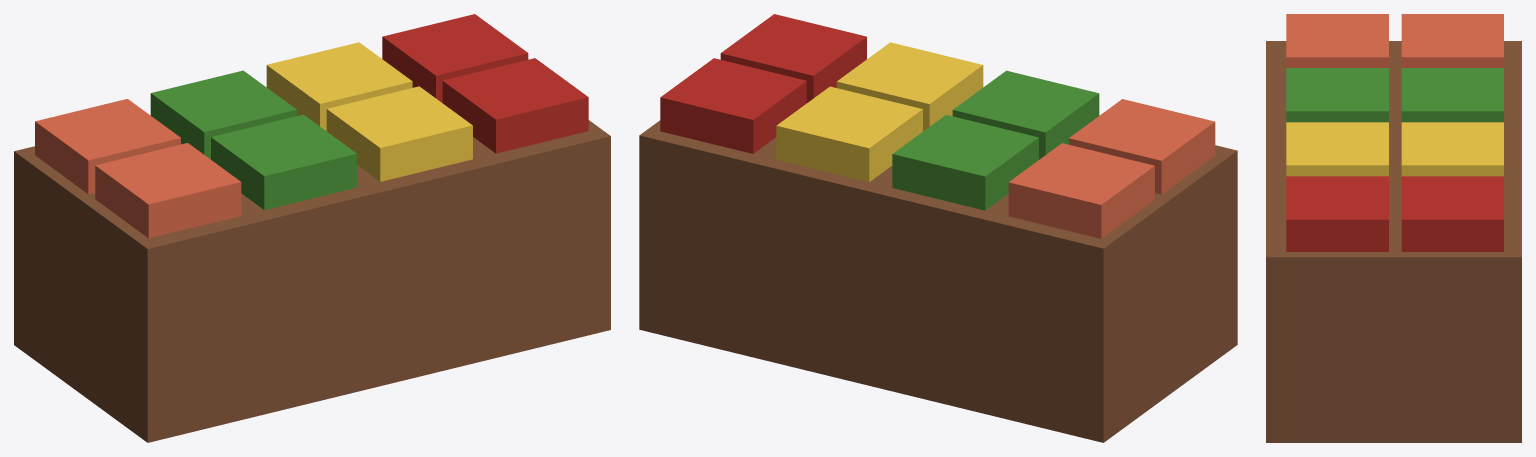
The model's file is produce.glb.
3 renders of one model, left to right at view 1: azimuth 30°, elevation 25°; view 2: azimuth 150°, elevation 25°; view 3: azimuth 270°, elevation 25°, orthographic. The views are drawn at different scales.
Visible parts, largest first — view 1: Box1, Box5, Box3, Box2, Box4, Box9, Box6, Box7, Box8; view 2: Box1, Box9, Box6, Box7, Box8, Box5, Box2, Box3, Box4; view 3: Box1, Box2, Box6, Box3, Box4, Box7, Box8, Box5, Box9.
Boxes of the visible parts, box(x1,y1,x2,y2) form: Box1: box(14, 120, 610, 442); Box5: box(95, 143, 241, 238); Box3: box(326, 86, 472, 181); Box2: box(442, 58, 588, 153); Box4: box(211, 114, 356, 209); Box9: box(35, 99, 180, 194); Box6: box(382, 14, 528, 102); Box7: box(266, 42, 412, 130); Box8: box(150, 70, 296, 159); Box1: box(639, 120, 1237, 442); Box9: box(1008, 143, 1154, 238); Box6: box(660, 58, 806, 153); Box7: box(776, 86, 922, 182); Box8: box(892, 115, 1038, 210); Box5: box(1069, 99, 1215, 194); Box2: box(720, 14, 866, 102); Box3: box(836, 42, 983, 131); Box4: box(952, 70, 1099, 159); Box1: box(1266, 41, 1521, 442); Box2: box(1286, 176, 1388, 251); Box6: box(1401, 176, 1503, 251); Box3: box(1286, 122, 1388, 176); Box4: box(1286, 68, 1388, 122); Box7: box(1401, 122, 1503, 176); Box8: box(1401, 68, 1503, 122); Box5: box(1286, 14, 1388, 67); Box9: box(1401, 14, 1503, 67).
Size of the model in its own units: 2 by 0.94 by 1.
